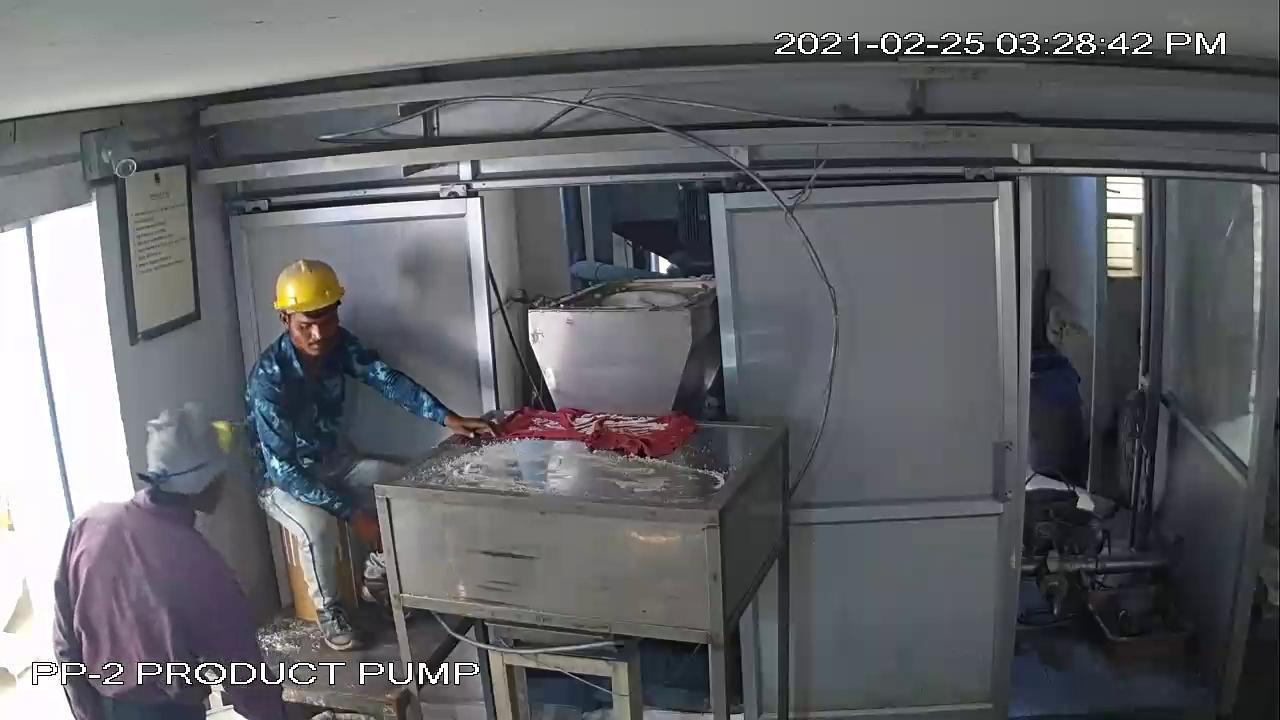helmet: (245, 246, 366, 325)
